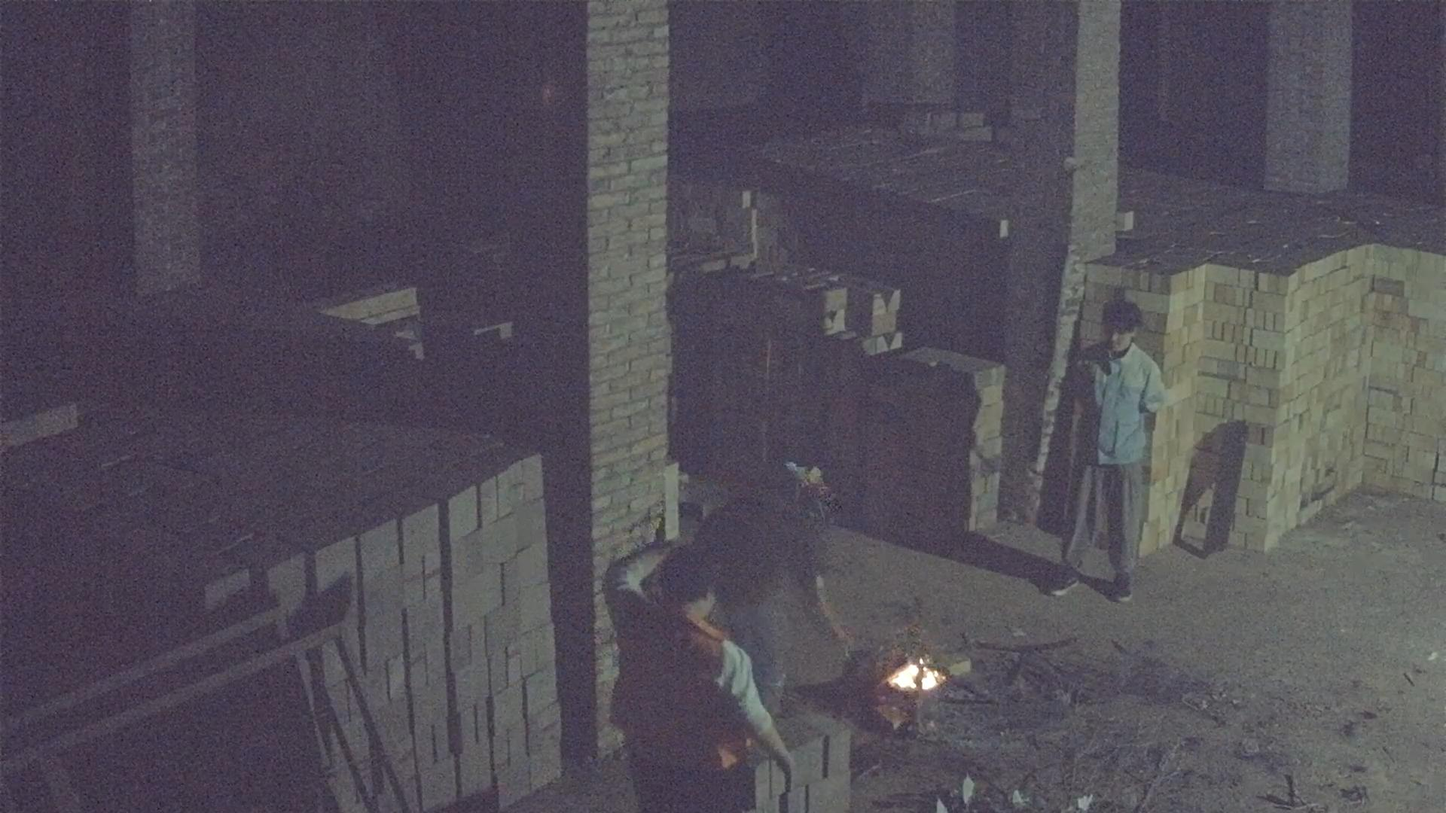fire: (888, 662, 947, 693)
